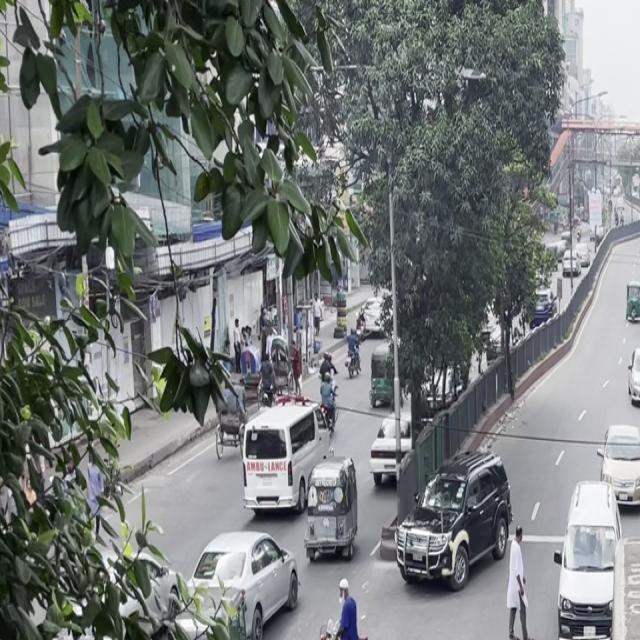bicycle: (302, 583, 392, 640)
bus: (590, 543, 640, 640)
car: (388, 447, 517, 597), (182, 523, 304, 640), (548, 475, 622, 640), (234, 402, 323, 524), (596, 416, 640, 521), (360, 409, 414, 493), (624, 339, 640, 415)
rickshaw: (297, 451, 363, 568)
